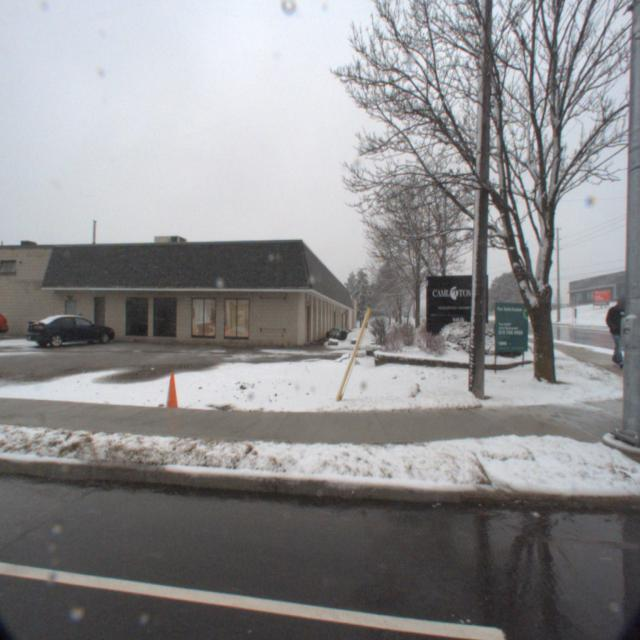Car: (17, 314, 118, 352)
